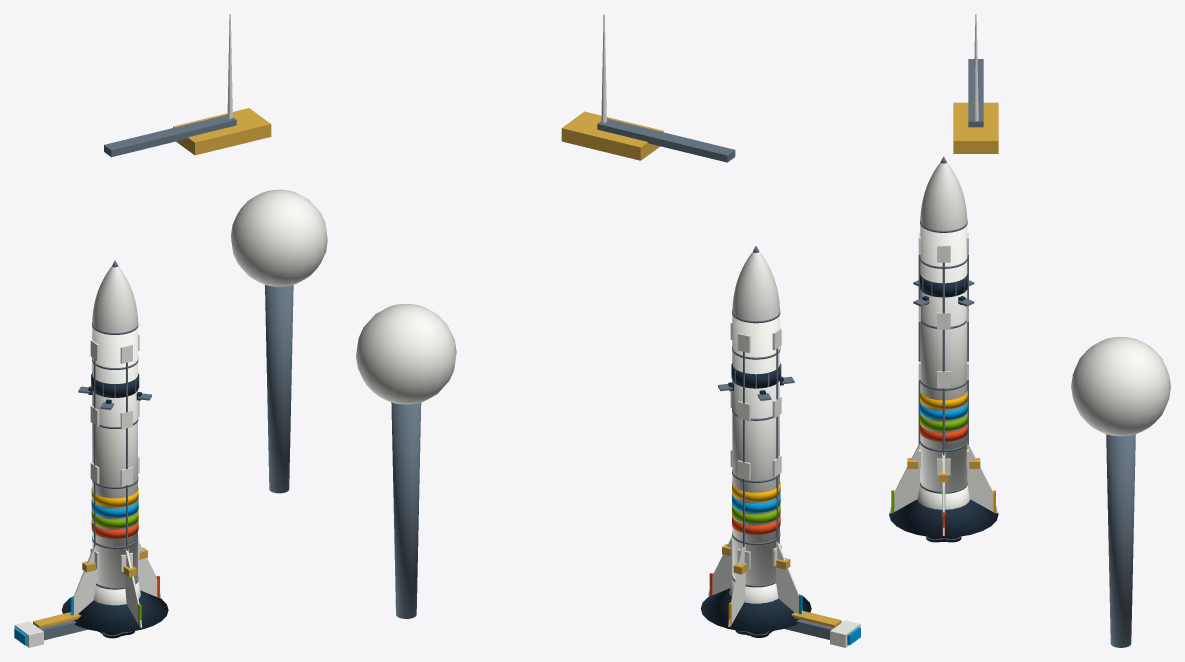
Rendered from rocket-kit-CYaeQLSb.glb.
The picture shows the model from 3 angles, left to right: view 1: azimuth 30°, elevation 25°; view 2: azimuth 150°, elevation 25°; view 3: azimuth 270°, elevation 25°; orthographic projection. The views are drawn at different scales.
Visible parts, largest first — view 1: WaterTower_Sphere, Rocket_Core_Barrel, WaterTower_Stem, Pad_FlameDeflector_Cone, Rocket_Ogive_Nose, Tower_Crane_Cab, Tower_Crane_Boom, Rocket_DeltaFin_2, Rocket_Interstage_Band, Rocket_DeltaFin_0, Rocket_Aft_Skirt, Rocket_DeltaFin_3 (+2 smaller); view 2: Rocket_Core_Barrel, WaterTower_Sphere, WaterTower_Stem, Pad_FlameDeflector_Cone, Rocket_Ogive_Nose, Tower_Crane_Cab, Tower_Crane_Boom, Rocket_DeltaFin_2; view 3: Rocket_Core_Barrel, WaterTower_Sphere, WaterTower_Stem, Pad_FlameDeflector_Cone, Rocket_Ogive_Nose, Tower_Crane_Cab, Rocket_DeltaFin_3, Rocket_DeltaFin_1, Tower_Crane_Boom, Rocket_Aft_Skirt, Rocket_Interstage_Band, Rocket_Raceway_0 (+5 smaller).
Boxes of the visible parts, left/top/right/bottom form: WaterTower_Sphere: left=231, top=189, right=327, bottom=286; Rocket_Core_Barrel: left=92, top=327, right=137, bottom=587; WaterTower_Stem: left=265, top=285, right=293, bottom=493; Pad_FlameDeflector_Cone: left=61, top=590, right=168, bottom=632; Rocket_Ogive_Nose: left=92, top=266, right=137, bottom=332; Tower_Crane_Cab: left=173, top=108, right=271, bottom=155; Tower_Crane_Boom: left=104, top=114, right=236, bottom=157; Rocket_DeltaFin_2: left=70, top=544, right=96, bottom=615; Rocket_Interstage_Band: left=91, top=373, right=138, bottom=397; Rocket_DeltaFin_0: left=138, top=540, right=161, bottom=597; Rocket_Aft_Skirt: left=93, top=581, right=140, bottom=605; Rocket_DeltaFin_3: left=125, top=548, right=142, bottom=627; Rocket_Core_Barrel: left=732, top=315, right=779, bottom=585; WaterTower_Sphere: left=356, top=304, right=456, bottom=404; WaterTower_Stem: left=391, top=402, right=421, bottom=618; Pad_FlameDeflector_Cone: left=700, top=588, right=811, bottom=631; Rocket_Ogive_Nose: left=732, top=252, right=779, bottom=320; Tower_Crane_Cab: left=561, top=111, right=663, bottom=160; Tower_Crane_Boom: left=597, top=118, right=735, bottom=162; Rocket_DeltaFin_2: left=776, top=541, right=802, bottom=614; Rocket_Core_Barrel: left=920, top=225, right=967, bottom=491; WaterTower_Sphere: left=1071, top=337, right=1170, bottom=436; WaterTower_Stem: left=1106, top=434, right=1135, bottom=647; Pad_FlameDeflector_Cone: left=889, top=499, right=998, bottom=537; Rocket_Ogive_Nose: left=920, top=162, right=967, bottom=230; Tower_Crane_Cab: left=953, top=102, right=998, bottom=153; Rocket_DeltaFin_3: left=889, top=443, right=920, bottom=513; Rocket_DeltaFin_1: left=967, top=443, right=997, bottom=513; Tower_Crane_Boom: left=968, top=59, right=983, bottom=127; Rocket_Aft_Skirt: left=917, top=485, right=969, bottom=509; Rocket_Interstage_Band: left=920, top=274, right=967, bottom=297; Rocket_Raceway_0: left=942, top=262, right=944, bottom=455.
Bounding box in the file's own units: 14.26 × 20.07 × 8.75.
